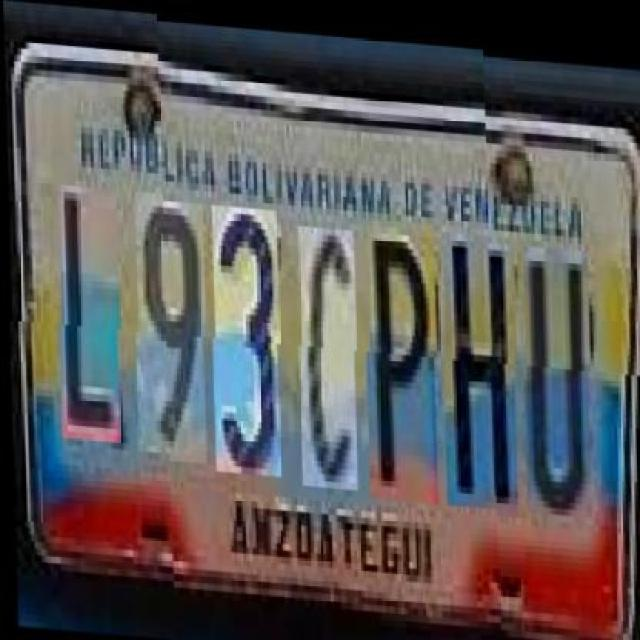3: (210, 200, 282, 472)
9: (134, 195, 208, 460)
c: (296, 220, 359, 485)
h: (442, 224, 518, 502)
l: (57, 190, 121, 448)
p: (364, 212, 438, 496)
u: (520, 229, 592, 500)
